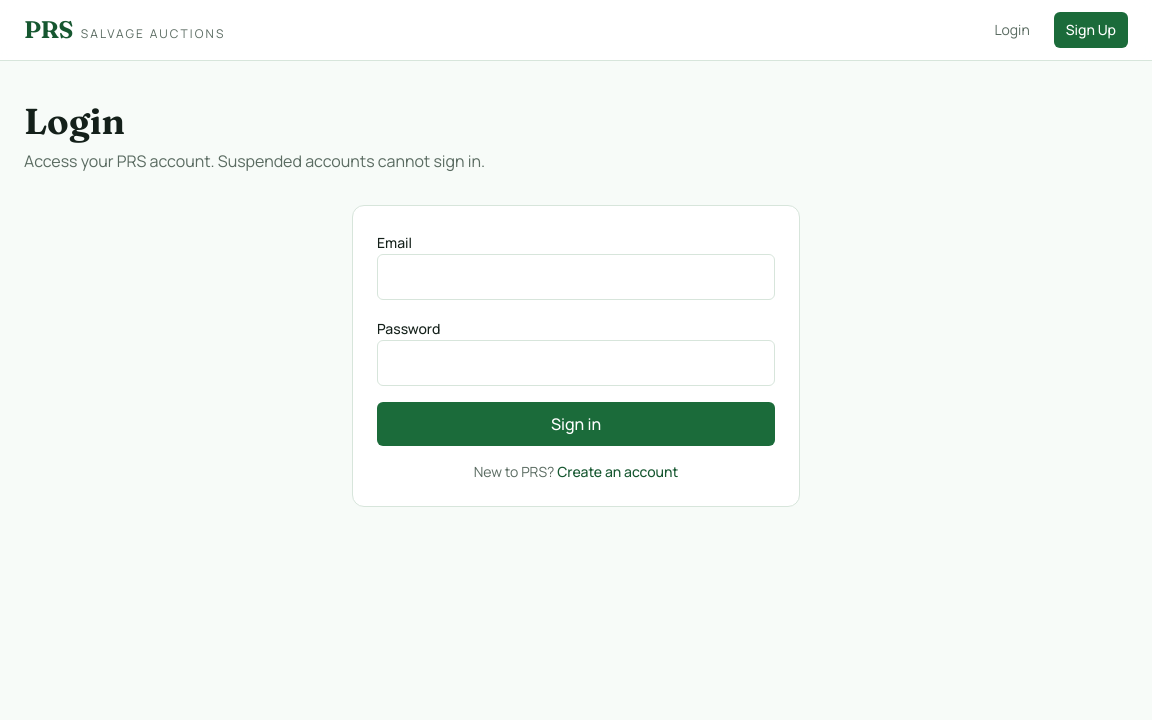
Test case: LoginPage form validation › shows field errors when submitting empty form
Click the button "Sign in": (576, 424) [377,402,775,446]
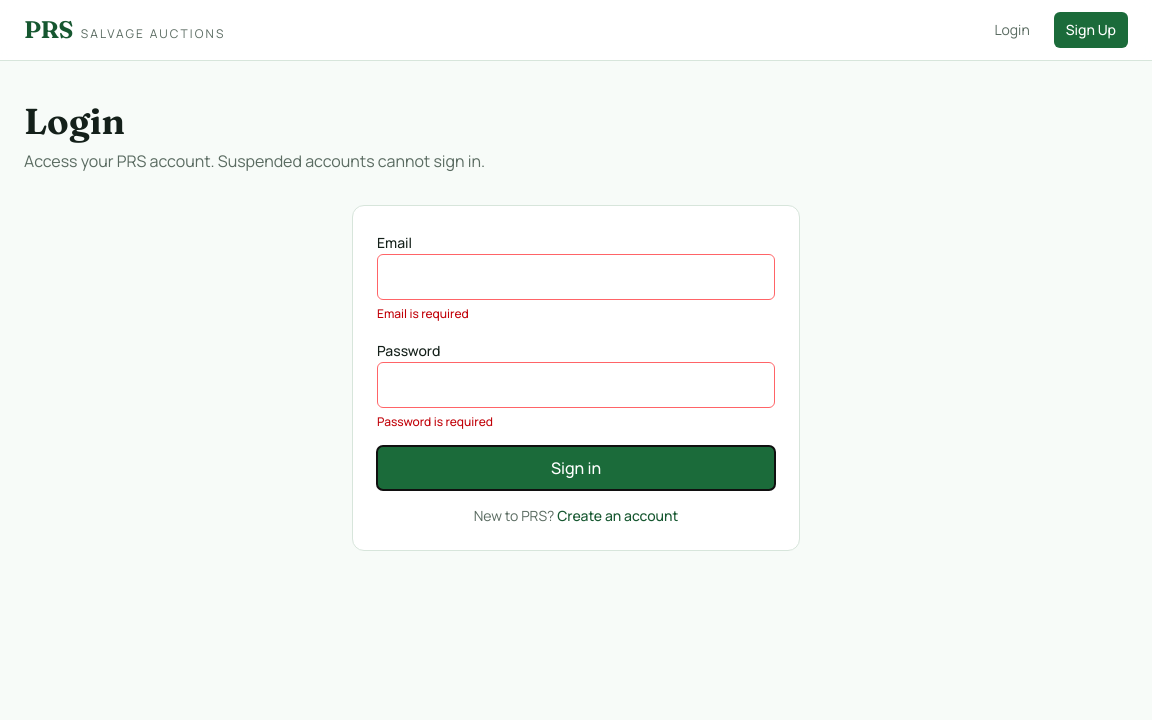
Expected: the text "Email is required" is shown, [377,305,469,322]
Expected: the text "Password is required" is shown, [377,413,493,430]
